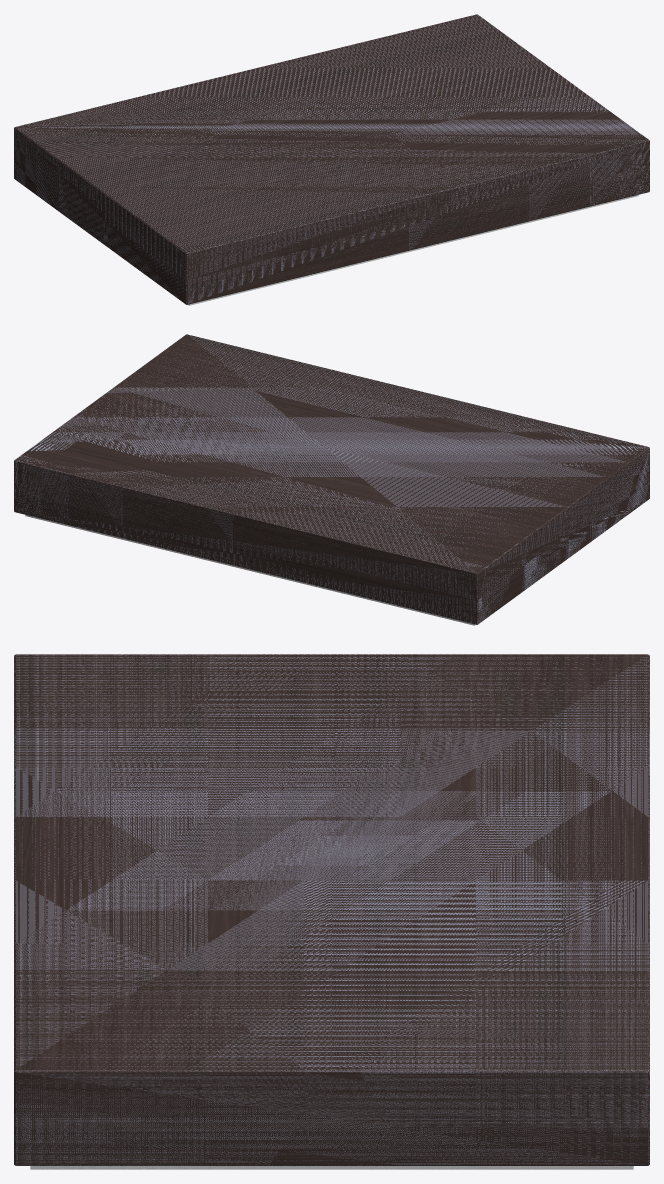
The model's file is shelf.dae.
3 renders of one model, top to bottom at view 1: azimuth 30°, elevation 25°; view 2: azimuth 150°, elevation 25°; view 3: azimuth 270°, elevation 25°, orthographic. The views are drawn at different scales.
Parts seen in each view (by area): view 1: SketchUp, group_0; view 2: SketchUp, group_0; view 3: SketchUp, group_0.
Part boxes in pixels (x1,y1,x2,y2): SketchUp: (14, 14, 649, 304); group_0: (188, 195, 638, 305); SketchUp: (14, 334, 649, 624); group_0: (25, 515, 475, 625); SketchUp: (14, 654, 649, 1165); group_0: (30, 1166, 633, 1169).
Bounding box in the file's own units: 36.61 × 23.6 × 4.33.
Materials: 3 (1 with a texture image).
